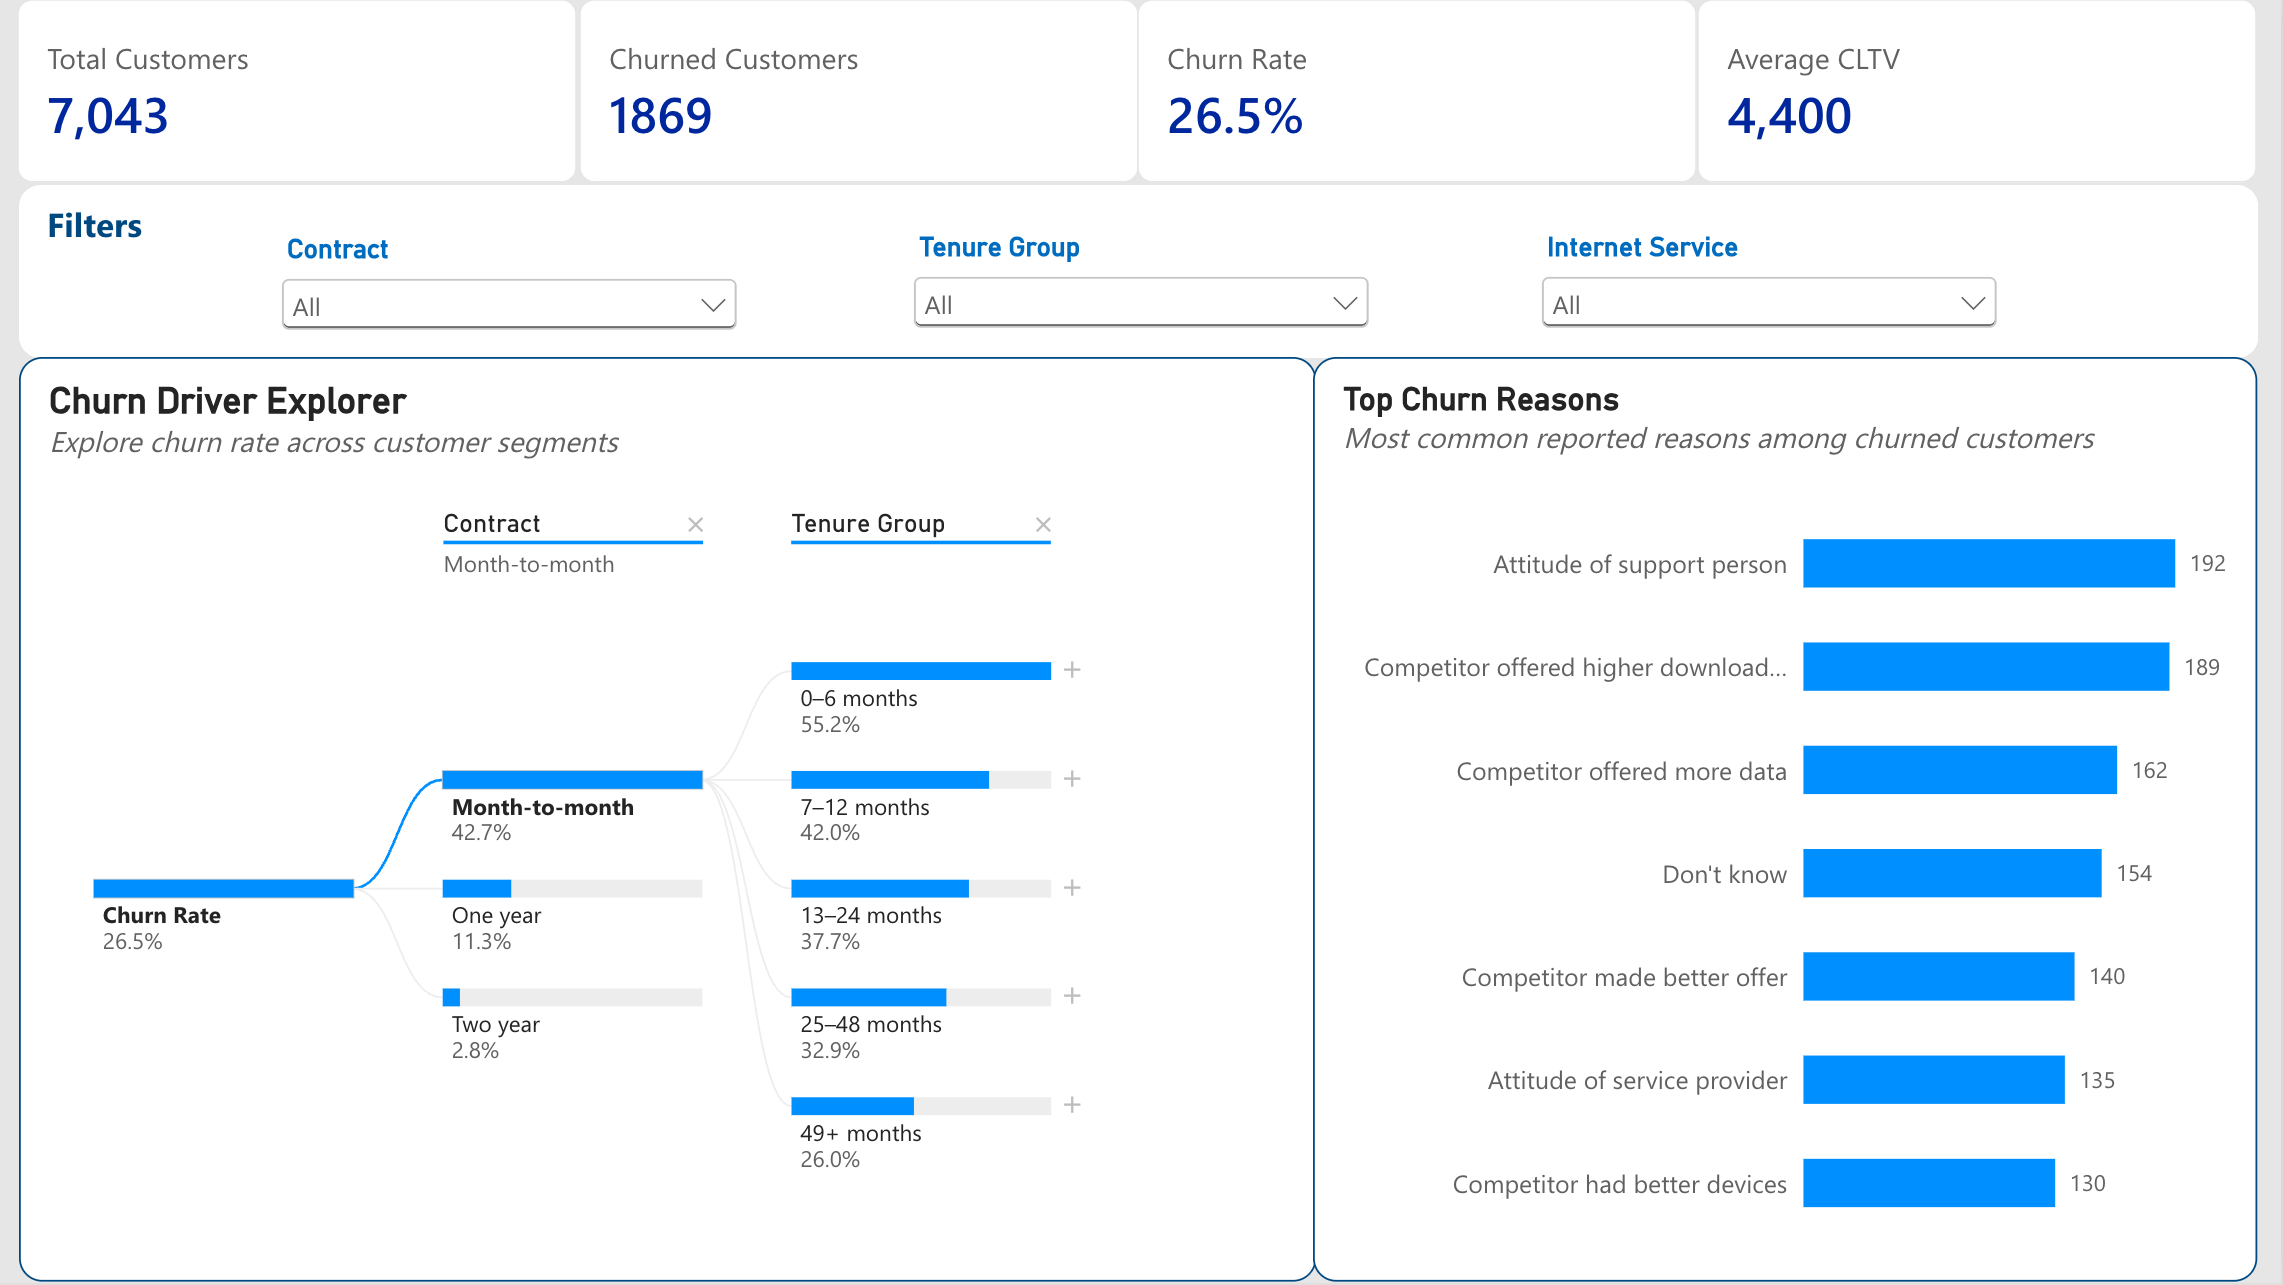

The page's visual inventory and layout, read from the dashboard file:
{"tool":"powerbi","page":{"name":"Churn Overview","canvas":[1280,720],"ordinal":0},"visuals":[{"type":"cardVisual","fields":{"Data":["Customers.Total Customers"]},"box":[10.4,0,314,103.5],"z":0,"group":"g1"},{"type":"shape","box":[10.8,103.7,1255.7,97],"z":0},{"type":"cardVisual","fields":{"Data":["Customers.Churned Customers"]},"box":[325,0,314,103.5],"z":1000,"group":"g1"},{"type":"decompositionTreeVisual","title":"Churn Driver Explorer","fields":{"Analyze":["Customers.Churn Rate"],"ExplainBy":["Customers.Contract","Customers.Tenure Group","Customers.Internet Service","Customers.Payment Method","Customers.Tech Support"]},"box":[10.8,200.8,727.6,518.7],"z":1000},{"type":"group","id":"g1","title":"Group 1","box":[10.4,0,1255.8,103.5],"z":2000},{"type":"cardVisual","fields":{"Data":["Customers.Churn Rate"]},"box":[638.6,0,314,103.5],"z":2000,"group":"g1"},{"type":"cardVisual","fields":{"Data":["Customers.Average CLTV"]},"box":[952.2,0,314,103.5],"z":3000,"group":"g1"},{"type":"slicer","fields":{"Values":["Customers.Contract"]},"box":[154,133.4,265,63],"z":3000},{"type":"slicer","fields":{"Values":["Customers.Internet Service"]},"box":[860,132,265,63],"z":4000},{"type":"clusteredBarChart","title":"Top Churn Reasons","fields":{"Category":["Customers.Churn Reason"],"Y":["CountNonNull(Customers.CustomerID)"]},"box":[737,200.8,529.5,518.7],"z":5000},{"type":"slicer","fields":{"Values":["Customers.Tenure Group"]},"box":[508,132,265,63],"z":6000},{"type":"textbox","box":[26.9,113.2,1227.5,39.1],"z":7000}]}

Visuals, with their boxes in screenshot pixels (x1, y1, x2, y2), scaled from the page's 1280x720 canvas onto the 2283x1285 screenshot:
cardVisual - Customers.Total Customers: [19,0,579,185]
shape: [19,185,2259,358]
cardVisual - Customers.Churned Customers: [580,0,1140,185]
"Churn Driver Explorer" decompositionTreeVisual: [19,358,1317,1284]
"Group 1" group: [19,0,2258,185]
cardVisual - Customers.Churn Rate: [1139,0,1699,185]
cardVisual - Customers.Average CLTV: [1698,0,2258,185]
slicer - Customers.Contract: [275,238,747,351]
slicer - Customers.Internet Service: [1534,236,2007,348]
"Top Churn Reasons" clusteredBarChart: [1315,358,2259,1284]
slicer - Customers.Tenure Group: [906,236,1379,348]
textbox: [48,202,2237,272]
